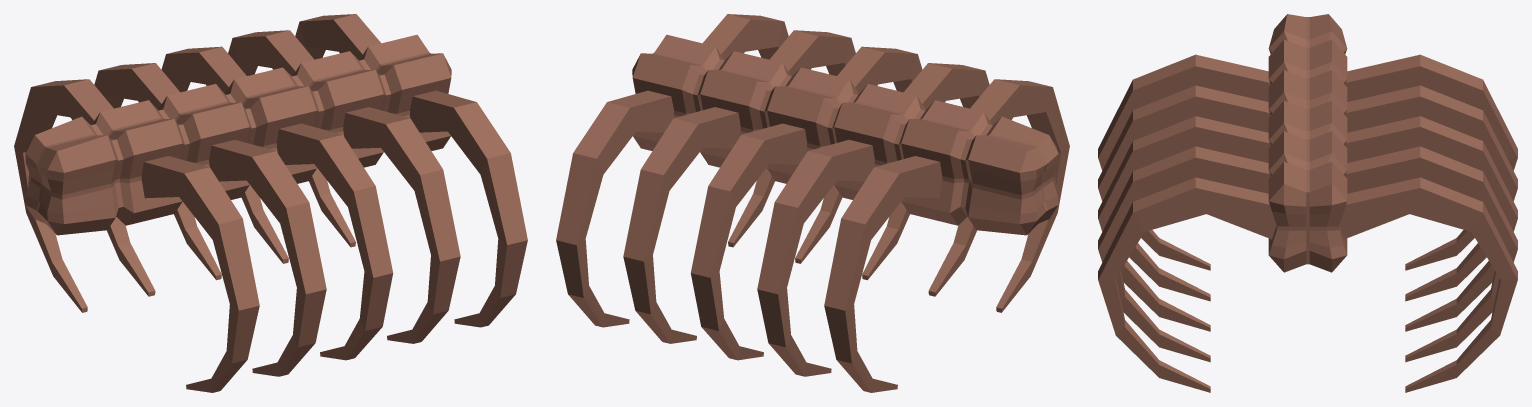
The model's file is ribcage.fbx.
3 views of the same model, side by side, from view 1: azimuth 30°, elevation 25°; view 2: azimuth 150°, elevation 25°; view 3: azimuth 270°, elevation 25° (orthographic). The views are drawn at different scales.
Parts seen in each view (by area): view 1: bone1; view 2: bone1; view 3: bone1.
Boxes of the visible parts, box(x1,y1,x2,y2) form: bone1: box(14, 14, 527, 392); bone1: box(556, 14, 1069, 392); bone1: box(1098, 14, 1517, 392).
Bounding box in the file's own units: 6.97 × 3.89 × 6.74.
